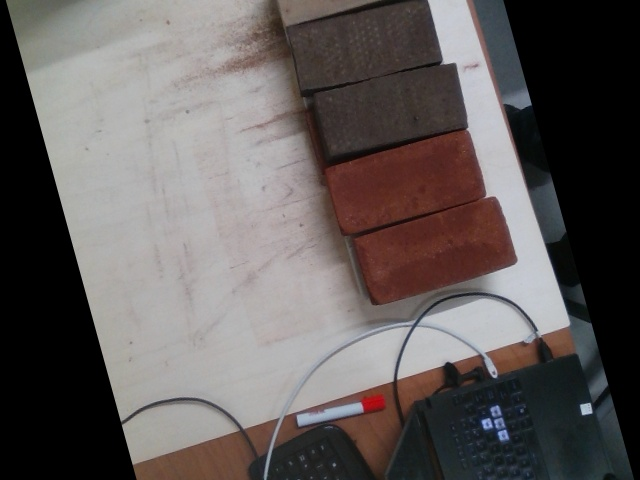brick: (354, 195, 517, 305), (323, 128, 485, 234), (309, 61, 468, 158)
